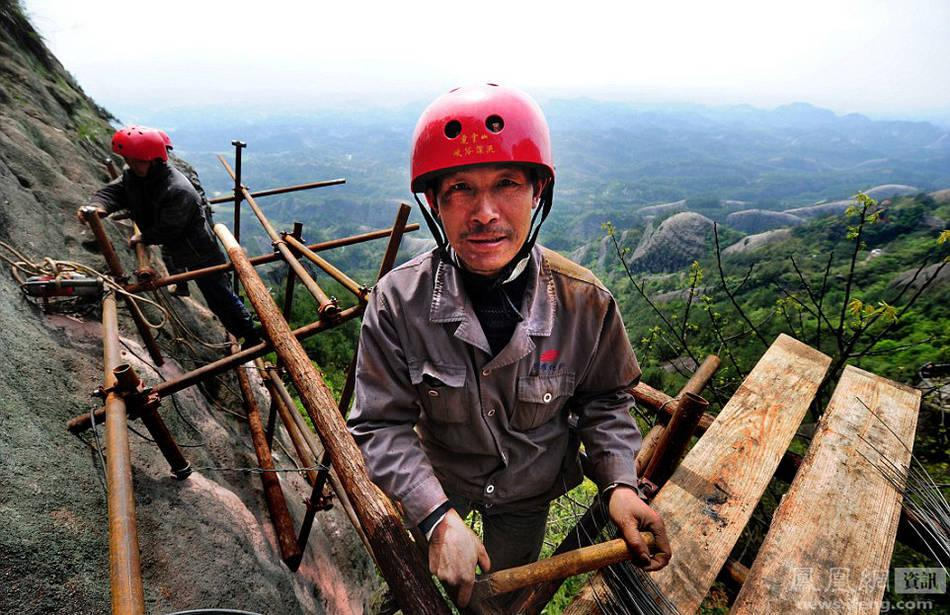helmet: (411, 78, 561, 187), (114, 128, 168, 166)
